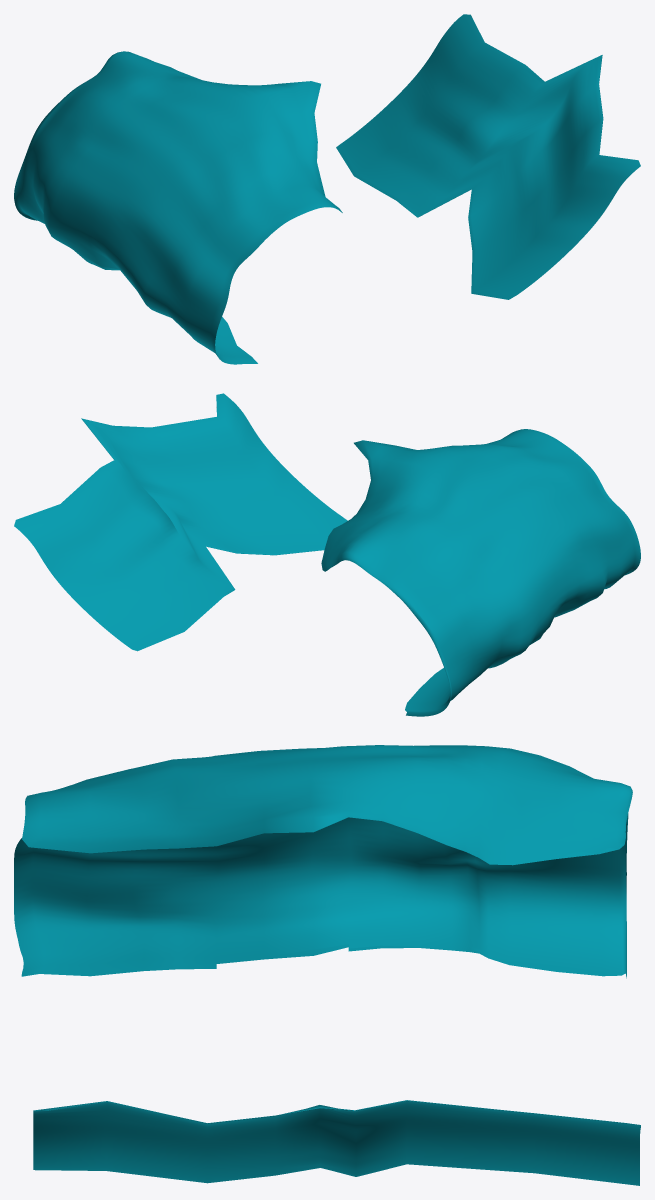
File: WaveMesh.fbx
The picture shows the model from 3 angles, top to bottom: view 1: azimuth 30°, elevation 25°; view 2: azimuth 150°, elevation 25°; view 3: azimuth 270°, elevation 25°; orthographic projection. The views are drawn at different scales.
Parts seen in each view (by area): view 1: sweep1; view 2: sweep1; view 3: sweep1.
Part boxes in pixels (x1,y1,x2,y2): sweep1: (14, 14, 640, 364); sweep1: (14, 393, 640, 716); sweep1: (14, 745, 640, 1185).
Size of the model in its own units: 1941 by 672 by 1342.
